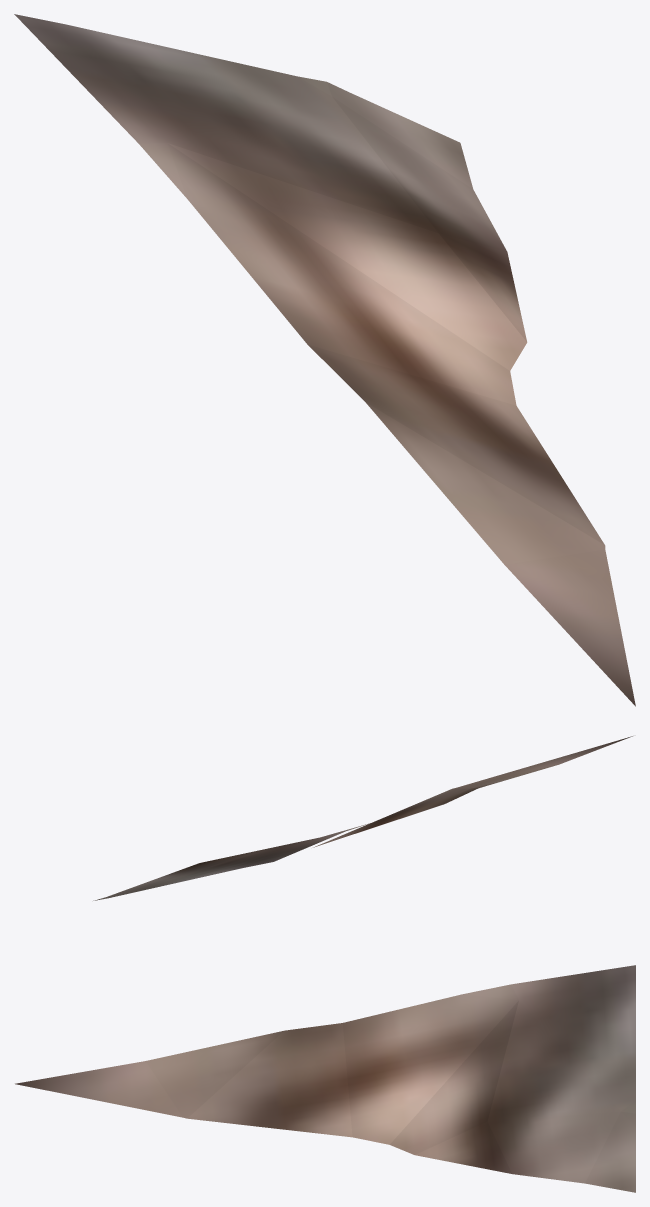
3 renders of one model, top to bottom at view 1: azimuth 30°, elevation 25°; view 2: azimuth 150°, elevation 25°; view 3: azimuth 270°, elevation 25°, orthographic. The views are drawn at different scales.
Size of the model in its own units: 0.209 by 0.1063 by 0.5042.
1 material, 1 textured.
